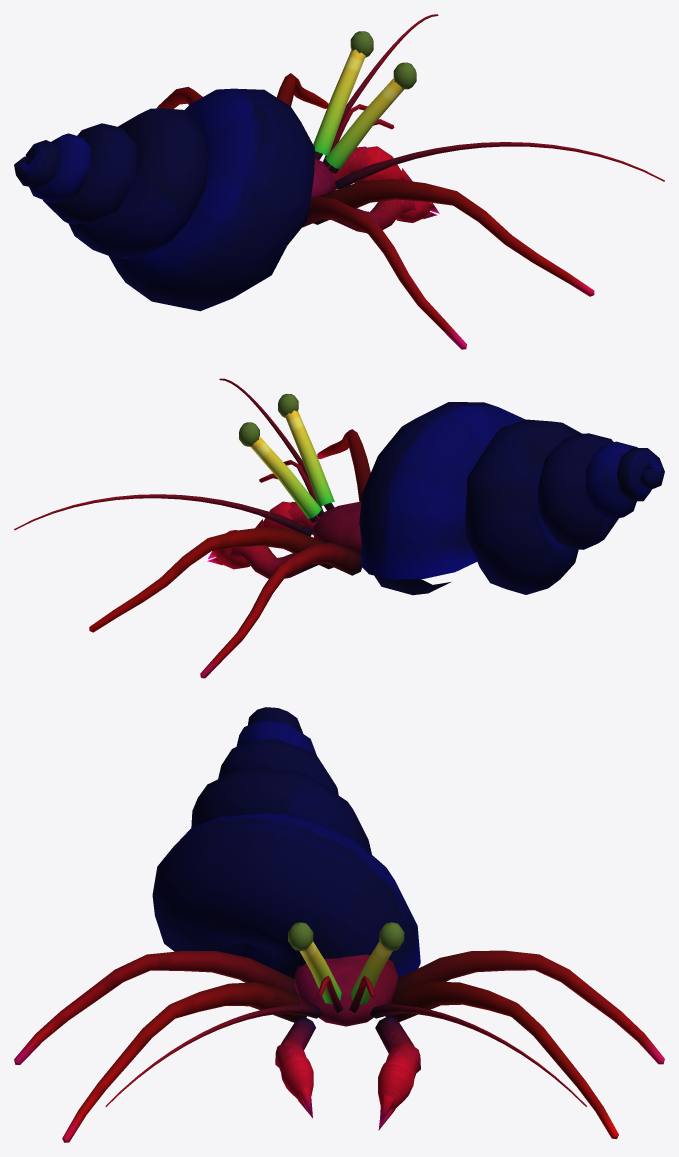
The model's file is hermit_scarlet.glb.
3 renders of one model, top to bottom at view 1: azimuth 30°, elevation 25°; view 2: azimuth 150°, elevation 25°; view 3: azimuth 270°, elevation 25°, orthographic. The views are drawn at different scales.
Visible parts, largest first — view 1: Shell, Legs, Eyes, Antennae, Claws, Body; view 2: Shell, Legs, Eyes, Antennae, Body, Claws; view 3: Shell, Legs, Claws, Body, Antennae, Eyes.
Part boxes in pixels (x1,y1,x2,y2): Shell: [14, 88, 314, 311]; Legs: [157, 73, 594, 349]; Eyes: [313, 31, 416, 168]; Antennae: [314, 14, 664, 188]; Claws: [326, 146, 439, 232]; Body: [311, 158, 335, 197]; Shell: [359, 402, 664, 594]; Legs: [89, 429, 370, 678]; Eyes: [239, 394, 334, 518]; Antennae: [14, 378, 334, 536]; Body: [312, 502, 450, 595]; Claws: [207, 501, 320, 578]; Shell: [152, 707, 420, 978]; Legs: [14, 950, 664, 1142]; Claws: [275, 1016, 420, 1130]; Body: [294, 954, 397, 1026]; Antennae: [105, 975, 586, 1106]; Eyes: [288, 922, 404, 1004].
Bounding box in the file's own units: 1.26 × 0.403 × 1.18.
2 materials, 1 textured.
